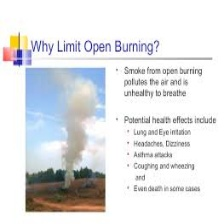smoke: (62, 82, 91, 170)
